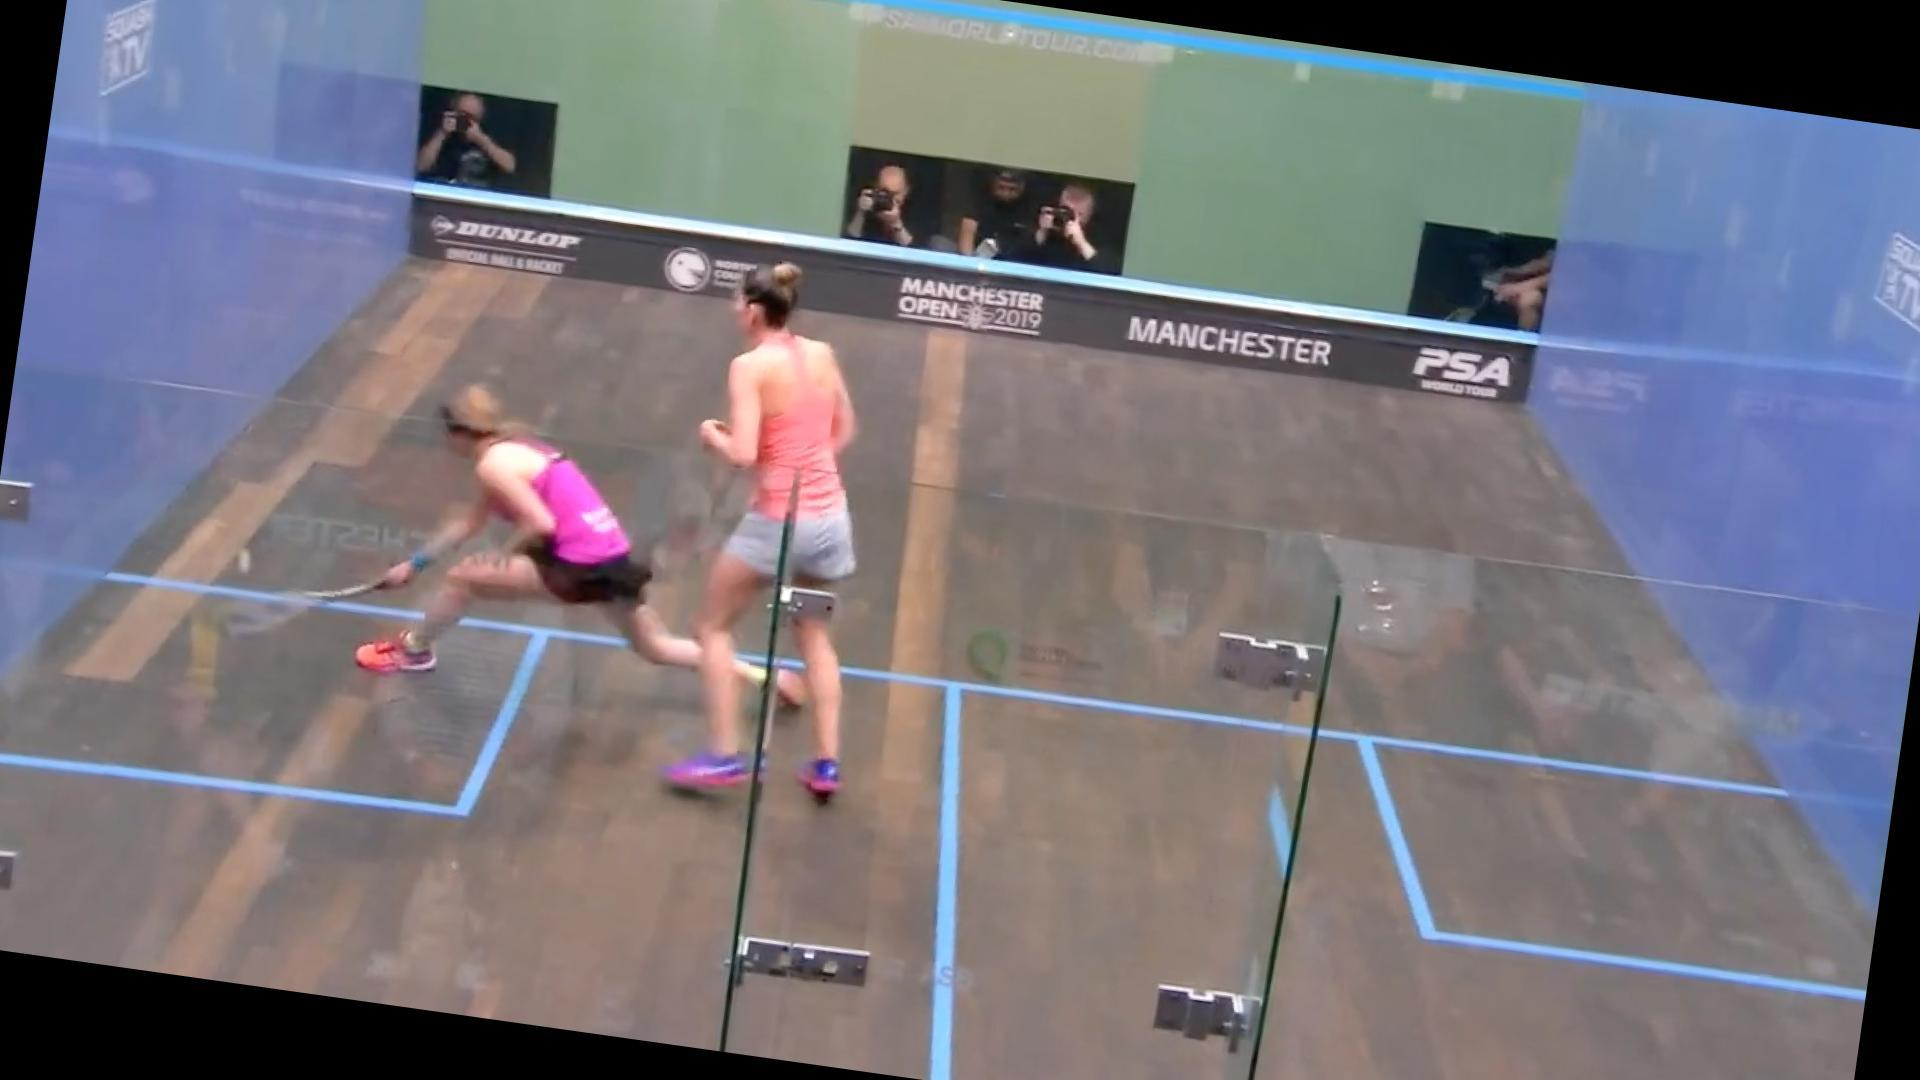Squash-Ball: (224, 535, 273, 591)
